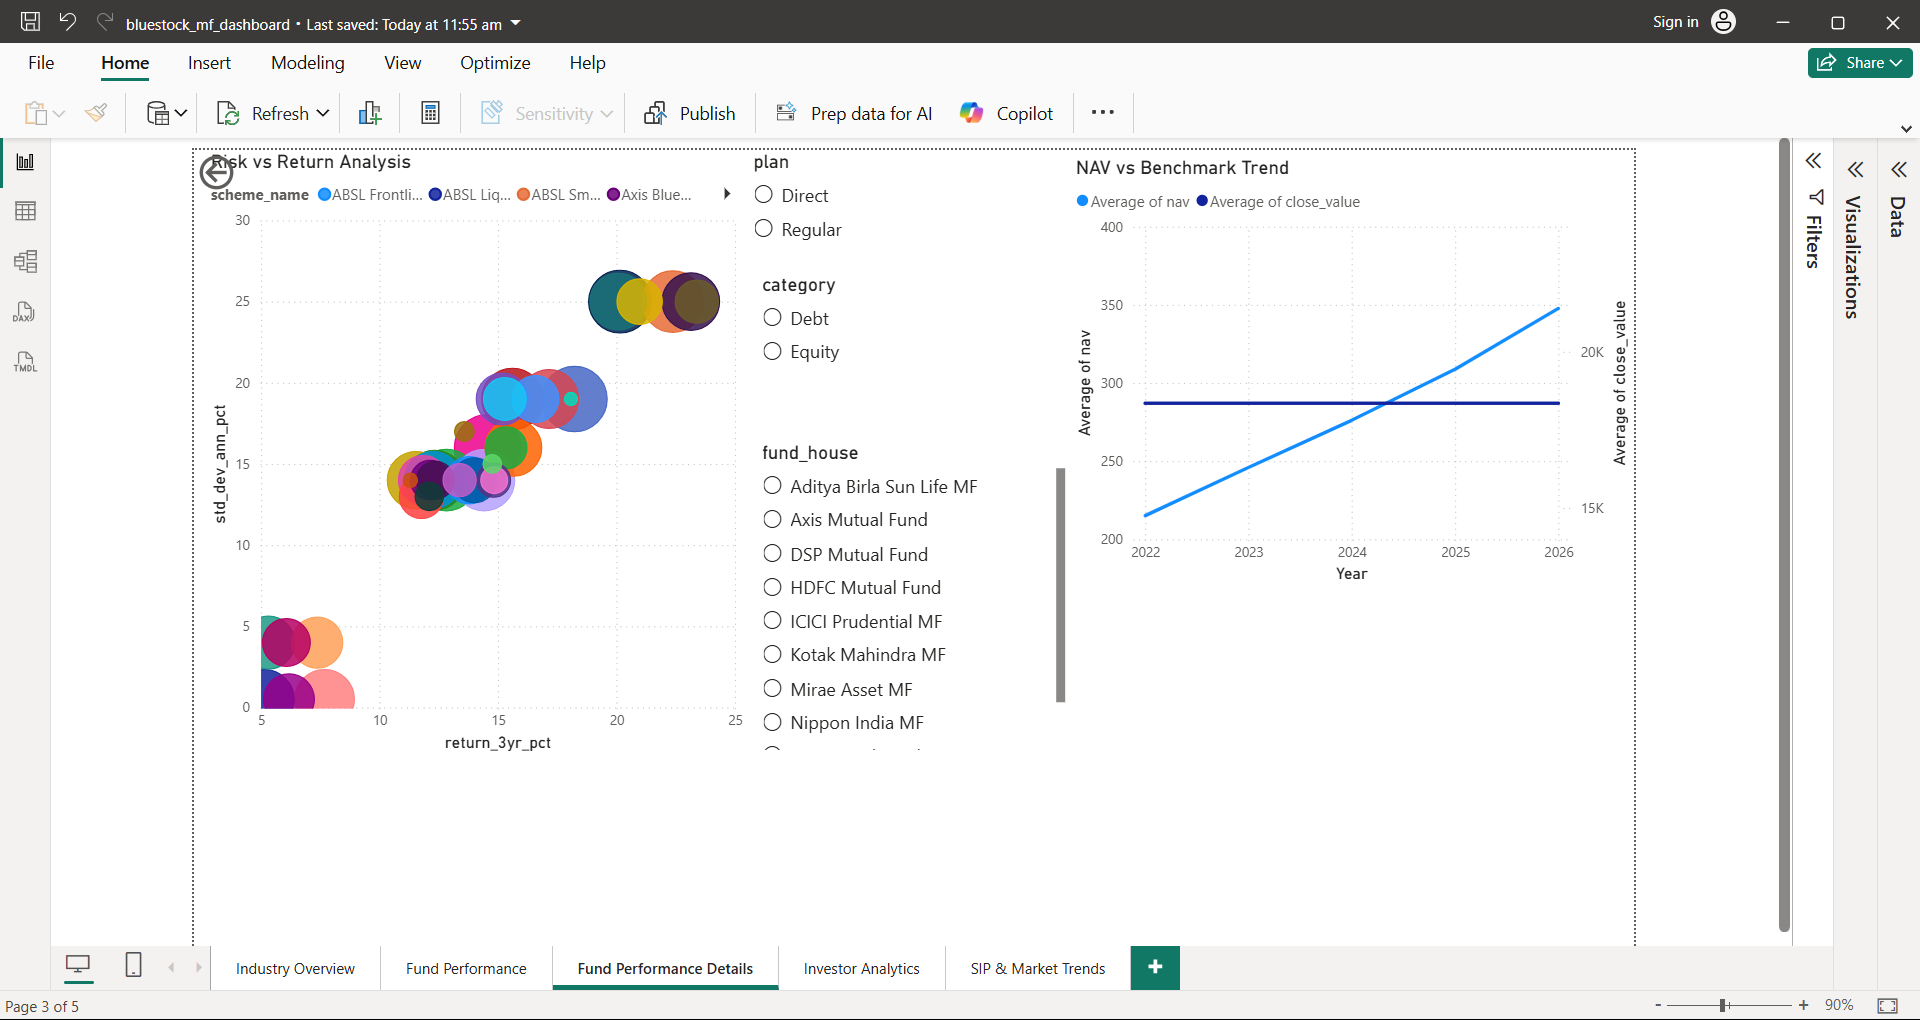

Layout of this report page (visuals, bound fields, positions):
{"tool":"powerbi","page":{"name":"Fund Performance Details","canvas":[1280,720],"ordinal":2},"visuals":[{"type":"scatterChart","title":"Risk vs Return Analysis","fields":{"X":["07_scheme_performance.return_3yr_pct"],"Y":["07_scheme_performance.std_dev_ann_pct"],"Size":["Sum(07_scheme_performance.aum_crore)"],"Series":["07_scheme_performance.scheme_name"]},"box":[9.6,0,483,539.3],"z":0},{"type":"listSlicer","fields":{"Values":["01_fund_master.fund_house"]},"box":[499.5,259.3,279.9,279.9],"z":1000},{"type":"listSlicer","fields":{"Values":["01_fund_master.category"]},"box":[499.5,108.4,279.9,150.9],"z":2000},{"type":"listSlicer","fields":{"Values":["01_fund_master.plan"]},"box":[492.6,0,256.6,108.4],"z":3000},{"type":"lineChart","title":"NAV vs Benchmark Trend","fields":{"Category":["cleaned_nav_history.date.Variation.Date Hierarchy.Year","cleaned_nav_history.date.Variation.Date Hierarchy.Quarter","cleaned_nav_history.date.Variation.Date Hierarchy.Month","cleaned_nav_history.date.Variation.Date Hierarchy.Day"],"Y":["Avg(cleaned_nav_history.nav)"],"Y2":["Avg(10_benchmark_indices.close_value)"]},"box":[779.4,5.5,500.9,384.2],"z":4000},{"type":"actionButton","box":[0,0,100,40],"z":5000}]}

Visuals, with their boxes on the page's 1280x720 design canvas (x1, y1, x2, y2). These are canvas units, not pixel positions in the 1920x1020 screenshot, which may show the page scaled, cropped or inside an application window:
"Risk vs Return Analysis" scatterChart: (left=10, top=0, right=493, bottom=539)
listSlicer - 01_fund_master.fund_house: (left=500, top=259, right=779, bottom=539)
listSlicer - 01_fund_master.category: (left=500, top=108, right=779, bottom=259)
listSlicer - 01_fund_master.plan: (left=493, top=0, right=749, bottom=108)
"NAV vs Benchmark Trend" lineChart: (left=779, top=6, right=1280, bottom=390)
actionButton: (left=0, top=0, right=100, bottom=40)
